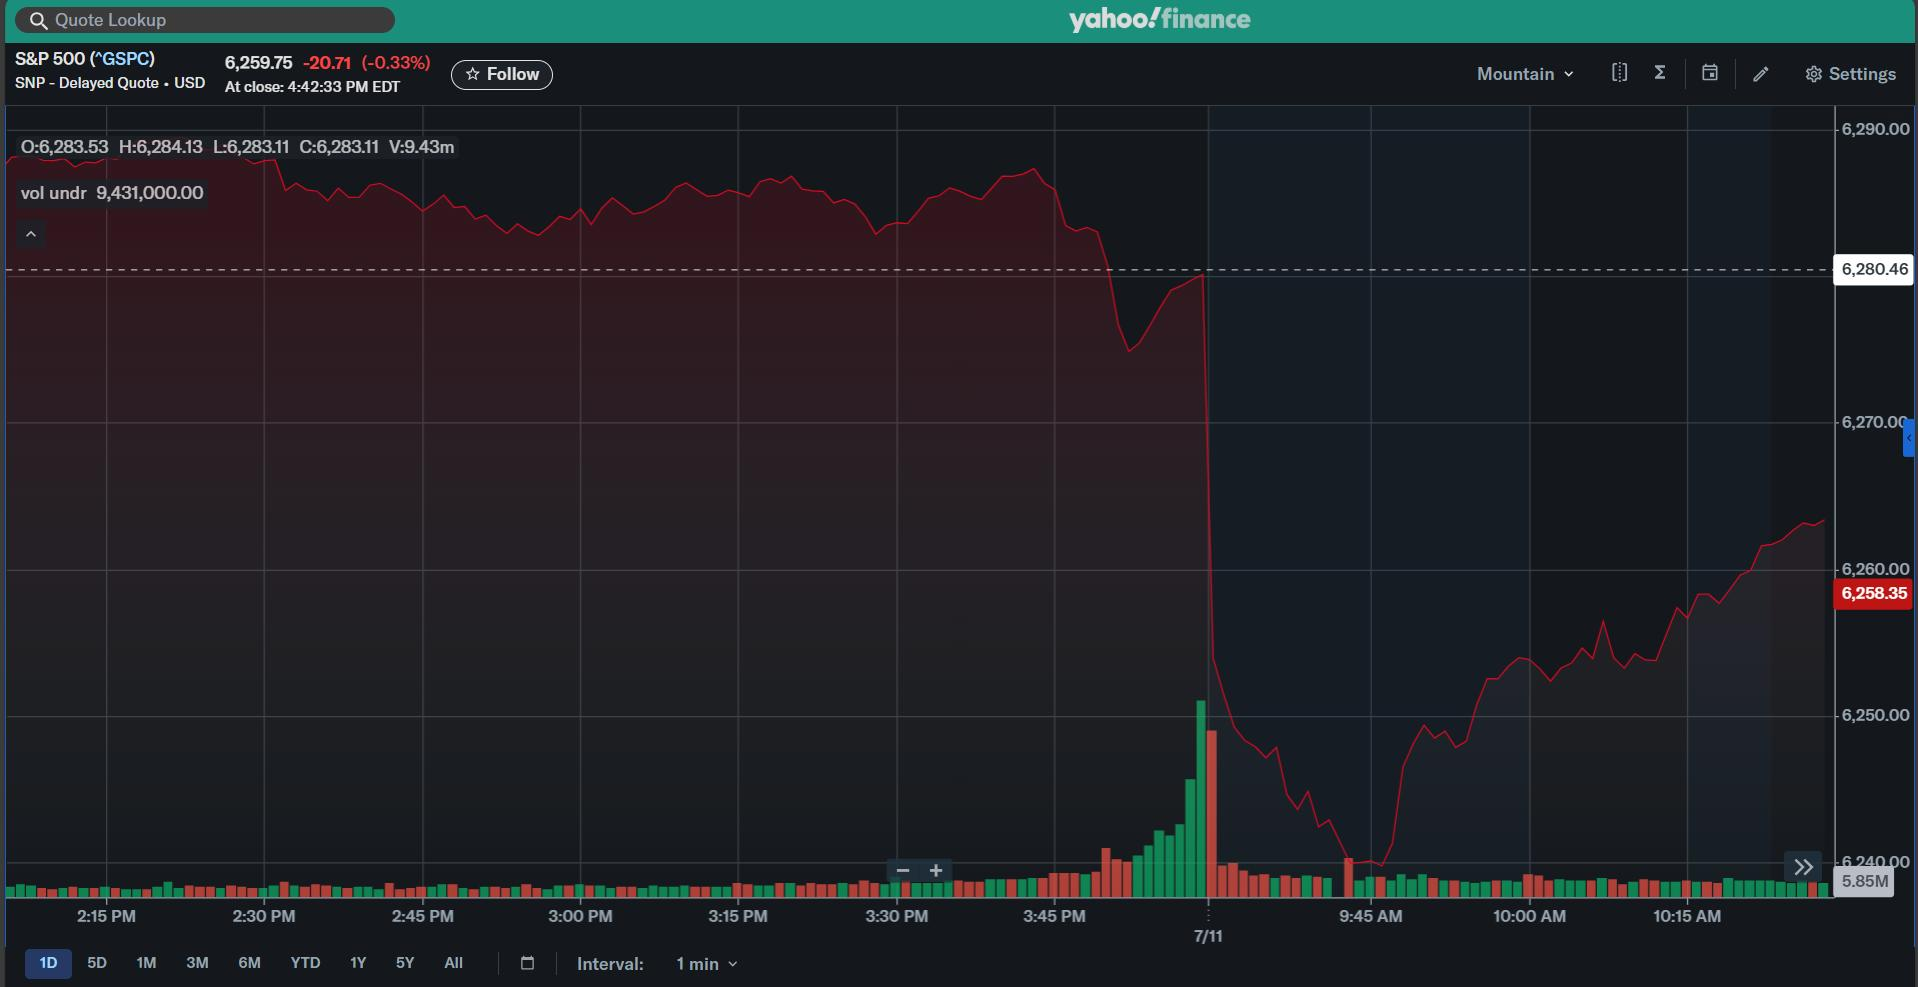Downtrend: (1182, 224, 1381, 862), (1082, 194, 1140, 407)
Uptrend: (1449, 475, 1829, 815), (875, 141, 1040, 266), (1383, 700, 1428, 860)
